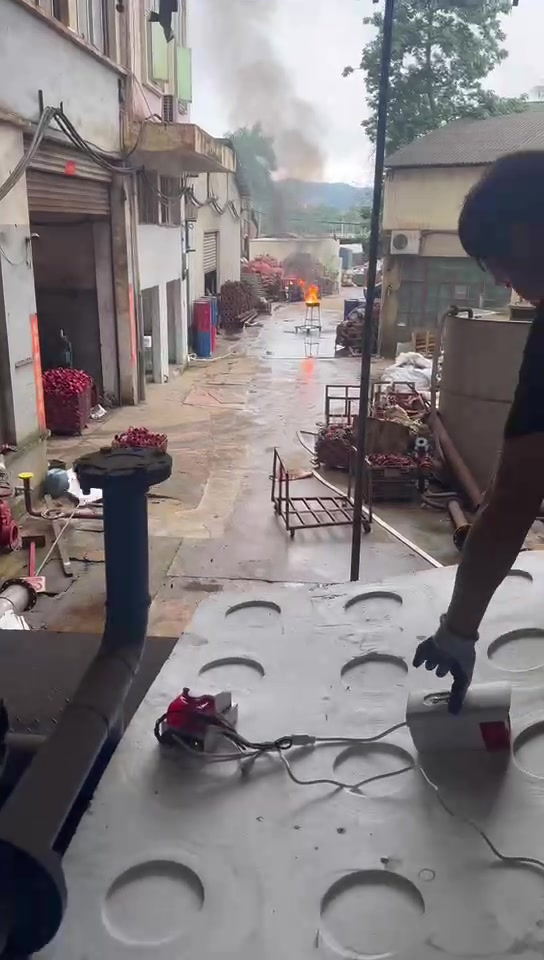fire: (299, 278, 319, 303)
